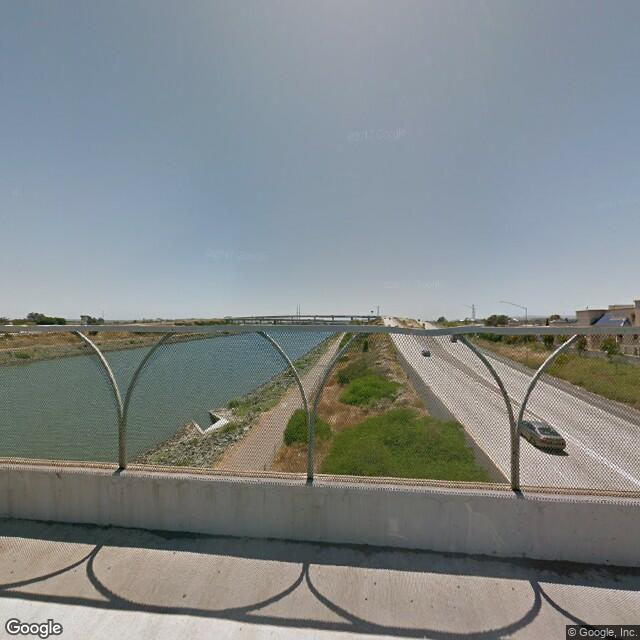litter: (241, 421, 251, 432)
